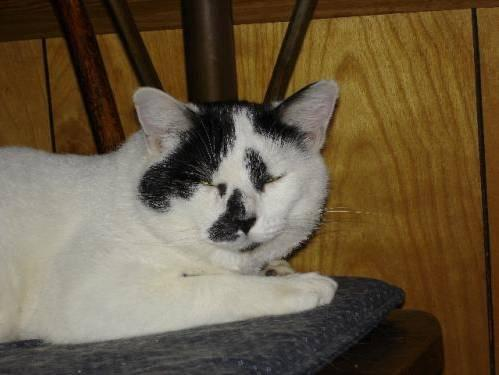cat: (0, 80, 338, 342)
